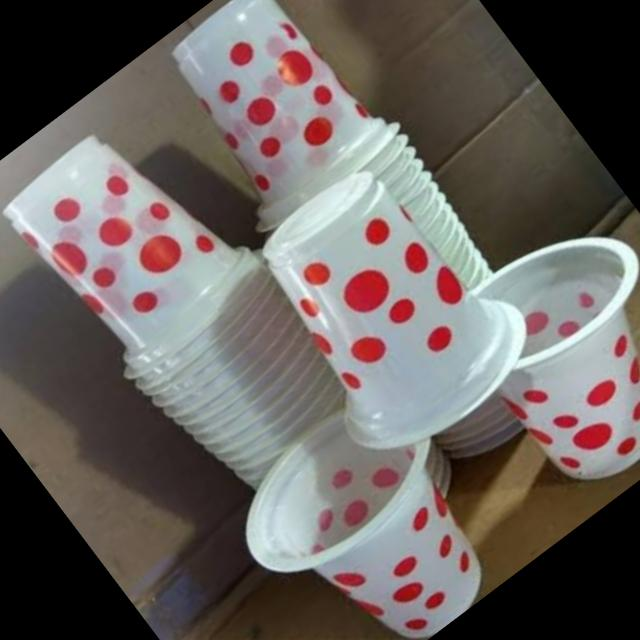GelasPlastik: (0, 79, 381, 523), (120, 0, 525, 379), (220, 132, 560, 482), (208, 367, 530, 640), (413, 197, 640, 516)
